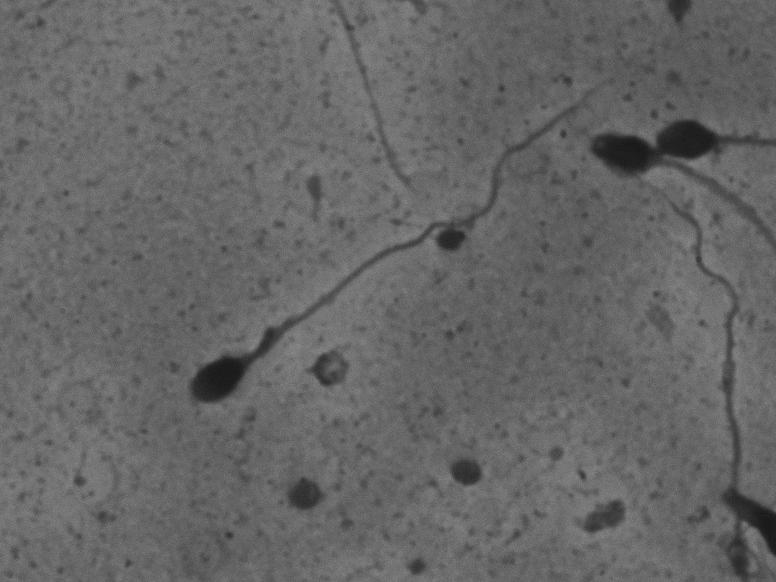Normal: (178, 69, 629, 417)
